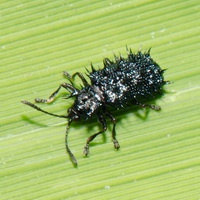insect: (21, 48, 168, 167)
